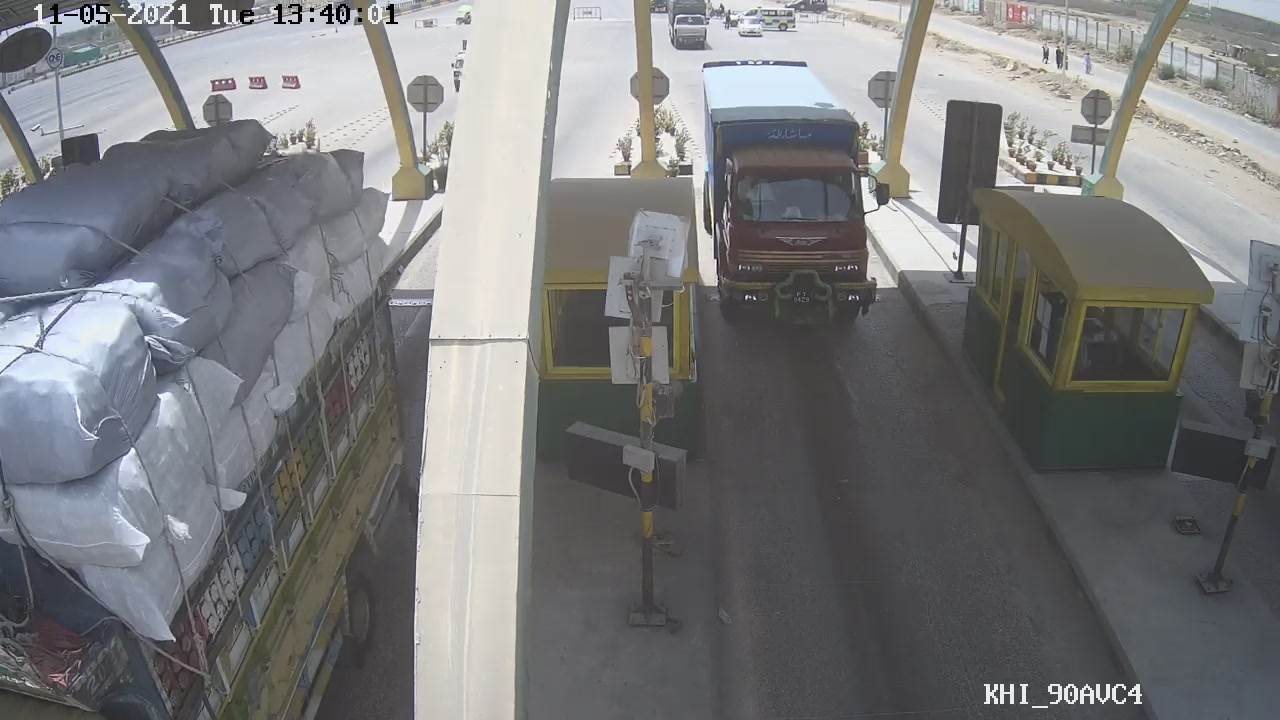F3: (704, 44, 887, 330)
